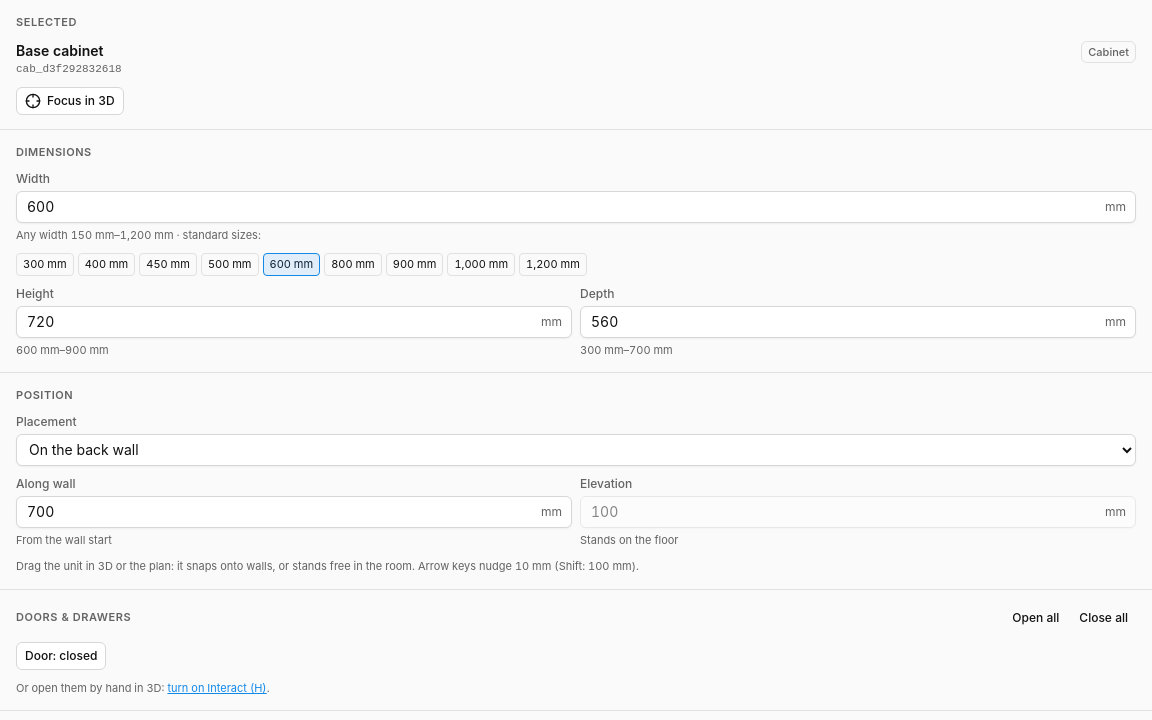
it: ElementInspector › rejects an out-of-range width with a readable message and keeps the previous value
Replace the text in the field with test id "inspector-width" with "1500" at (576, 206), box top-left (16, 190), bottom-right (1136, 222)
Then press Enter
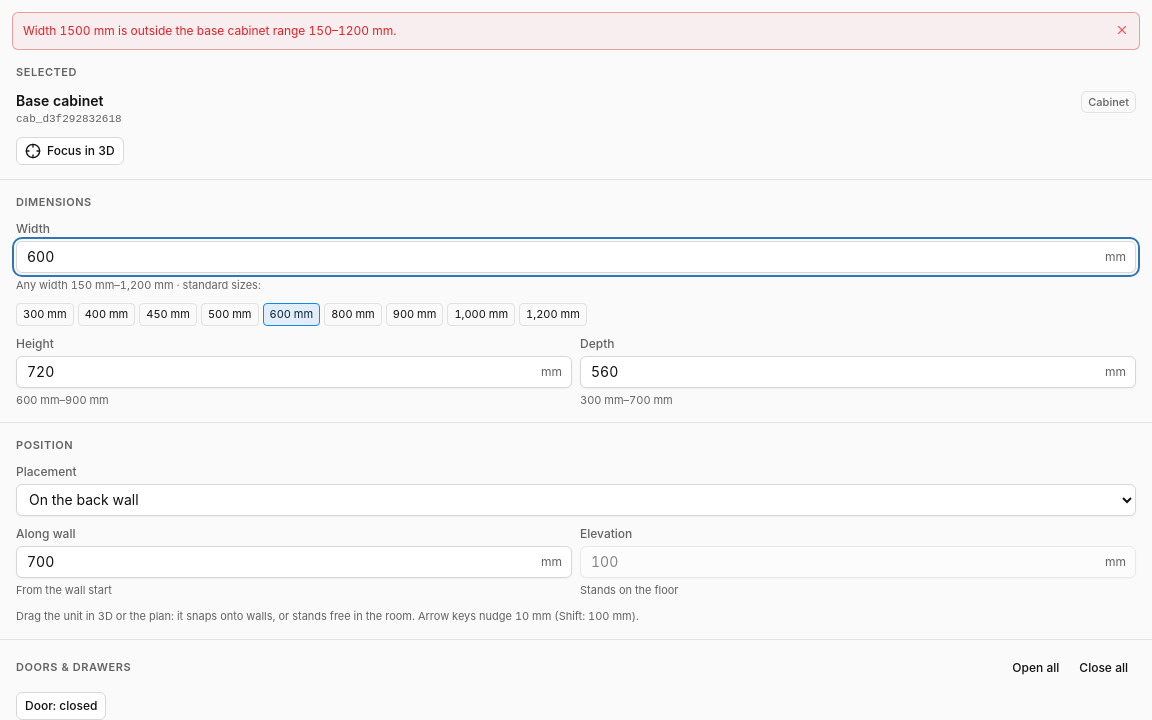
Expected: the message with test id "command-error" shows "Width 1500 mm is outside the base cabinet range 150–1200 mm", top-left (23, 23), bottom-right (396, 38)
Expected: the field with test id "inspector-width" holds "600", top-left (16, 240), bottom-right (1136, 272)
